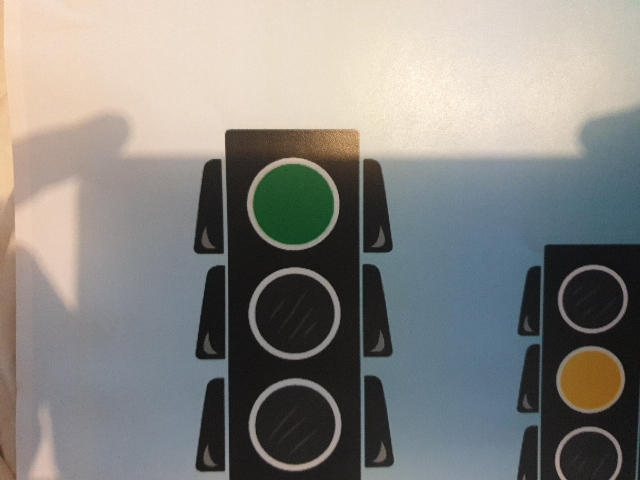amber: (559, 256, 624, 474)
green: (241, 143, 347, 469)
